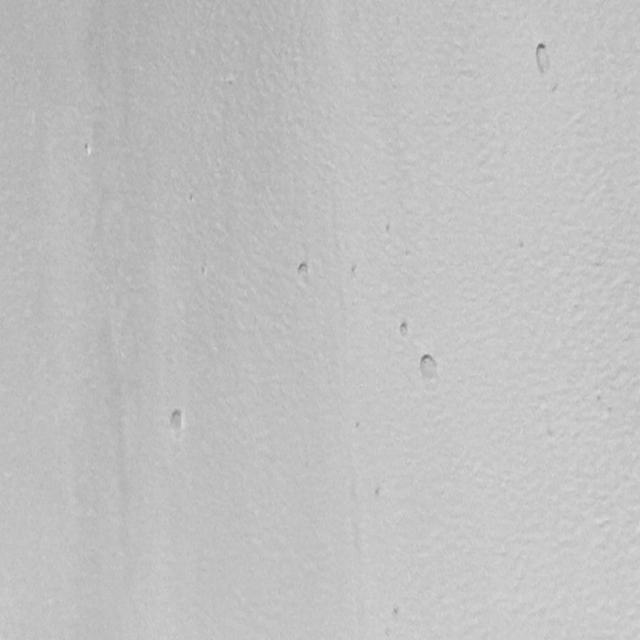pin holes: (530, 40, 554, 74), (419, 354, 443, 388), (166, 407, 189, 438), (294, 258, 315, 284), (395, 318, 414, 342), (391, 605, 407, 623), (347, 262, 361, 280), (82, 139, 95, 158), (382, 222, 396, 238), (374, 482, 382, 506), (354, 418, 366, 432)
